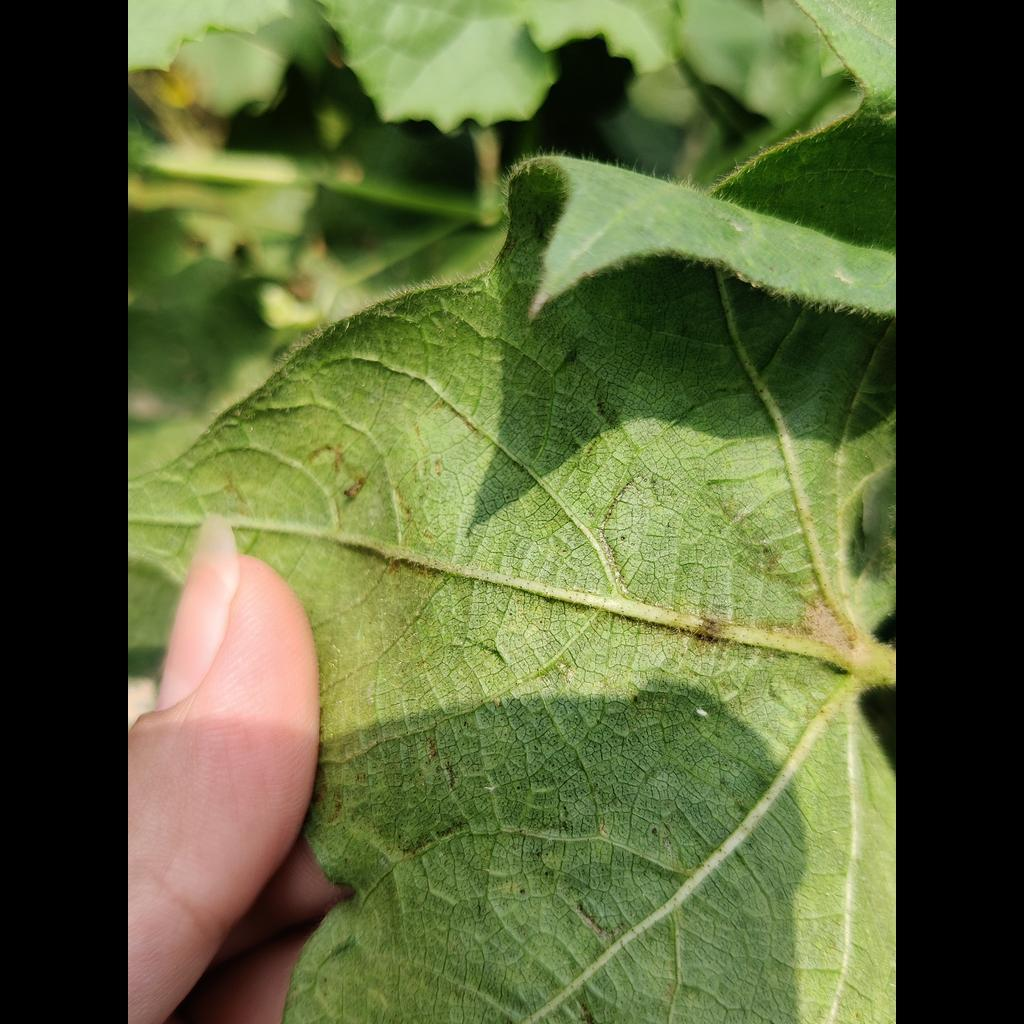nymph: (484, 784, 497, 793), (696, 709, 708, 717)
